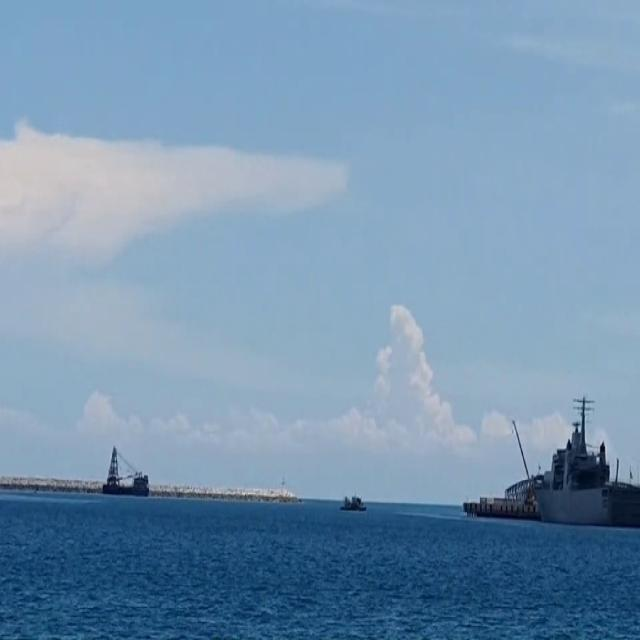civilianship: (86, 446, 191, 513)
warship1: (457, 381, 640, 528)
